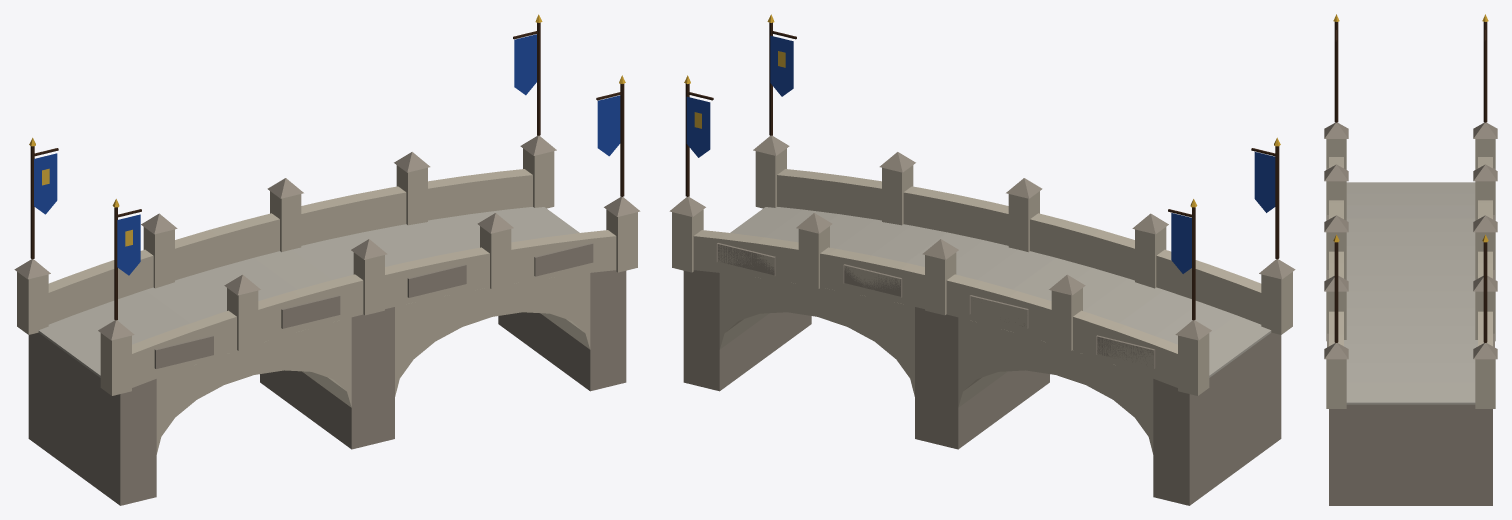
Rendered from bridge_stone.fbx.
3 renders of one model, left to right at view 1: azimuth 30°, elevation 25°; view 2: azimuth 150°, elevation 25°; view 3: azimuth 270°, elevation 25°, orthographic. The views are drawn at different scales.
Parts seen in each view (by area): view 1: bridge_stone; view 2: bridge_stone; view 3: bridge_stone.
Part boxes in pixels (x1=…): bridge_stone: x1=14, y1=14, x2=640, y2=505; bridge_stone: x1=669, y1=14, x2=1295, y2=505; bridge_stone: x1=1324, y1=14, x2=1497, y2=505.
Size of the model in its own units: 14.65 by 8.05 by 4.65.
